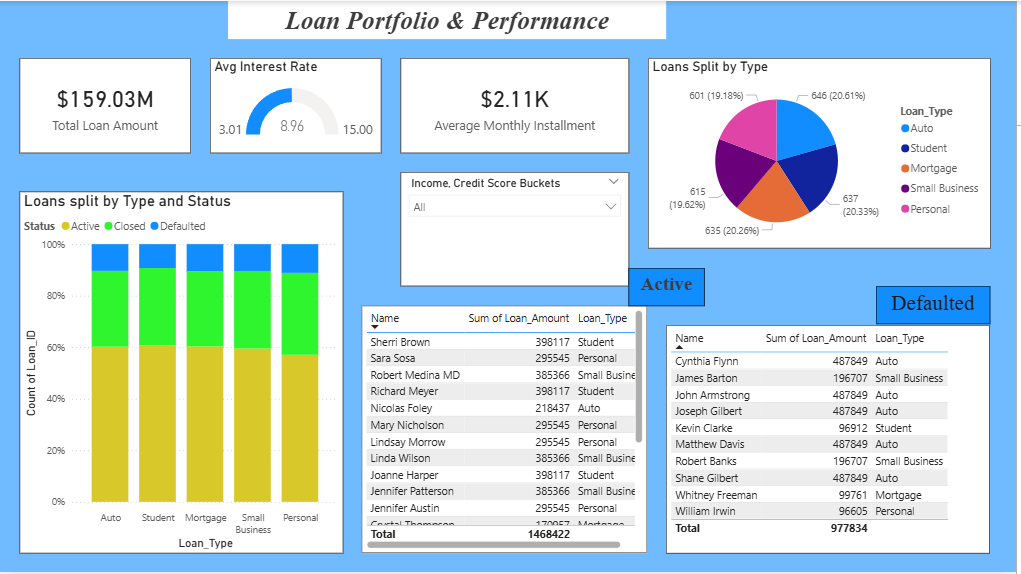

Layout of this report page (visuals, bound fields, positions):
{"tool":"powerbi","page":{"name":"Loan Portfolio & Performance","canvas":[1280,720],"ordinal":1},"visuals":[{"type":"textbox","box":[288,0,552,48],"z":0},{"type":"card","fields":{"Values":["Analysis.Total Loan Amount"]},"box":[24,72,216,120],"z":1},{"type":"card","fields":{"Values":["Analysis.Average Monthly Installment"]},"box":[504,72,288,120],"z":2},{"type":"gauge","title":"Avg Interest Rate","fields":{"MaxValue":["Max(Loan_Details.Interest_Rate)1"],"MinValue":["Min(Loan_Details.Interest_Rate)"],"Y":["Analysis.Average Interest Rate"]},"box":[264,72,216,120],"z":3},{"type":"slicer","fields":{"Values":["Customer_Details.Income","Customer_Details.Credit Score Buckets"]},"box":[504,216,288,144],"z":4},{"type":"pieChart","title":"Loans Split by Type","fields":{"Category":["Loan_Details.Loan_Type"],"Y":["CountNonNull(Loan_Details.Loan_ID)"]},"box":[816,72,432,240],"z":5},{"type":"hundredPercentStackedColumnChart","title":"Loans split by Type and Status","fields":{"Category":["Loan_Details.Loan_Type"],"Series":["Loan_Details.Status"],"Y":["CountNonNull(Loan_Details.Loan_ID)"]},"box":[24,240,408,456],"z":6},{"type":"tableEx","fields":{"Values":["Customer_Details.Name","Sum(Loan_Details.Loan_Amount)","Loan_Details.Loan_Type"]},"box":[456,384,360,312],"z":7},{"type":"textbox","box":[792,336,96,48],"z":8},{"type":"tableEx","fields":{"Values":["Customer_Details.Name","Sum(Loan_Details.Loan_Amount)","Loan_Details.Loan_Type"]},"box":[840,408,408,288],"z":9},{"type":"textbox","box":[1104,360,144,48],"z":10}]}

Visuals, with their boxes in screenshot pixels (x1, y1, x2, y2), scaled from the page's 1280x720 canvas onto the 1021x574 screenshot:
textbox: box(230, 0, 670, 38)
card - Analysis.Total Loan Amount: box(19, 57, 191, 153)
card - Analysis.Average Monthly Installment: box(402, 57, 632, 153)
"Avg Interest Rate" gauge: box(211, 57, 383, 153)
slicer - Customer_Details.Income x Customer_Details.Credit Score Buckets: box(402, 172, 632, 287)
"Loans Split by Type" pieChart: box(651, 57, 995, 249)
"Loans split by Type and Status" hundredPercentStackedColumnChart: box(19, 191, 345, 555)
tableEx - Customer_Details.Name x Sum(Loan_Details.Loan_Amount): box(364, 306, 651, 555)
textbox: box(632, 268, 708, 306)
tableEx - Customer_Details.Name x Sum(Loan_Details.Loan_Amount): box(670, 325, 995, 555)
textbox: box(881, 287, 995, 325)
